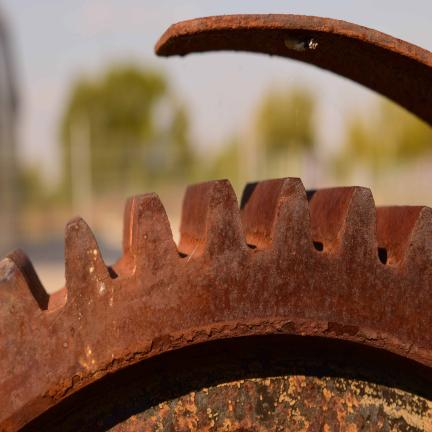karat: (0, 177, 432, 432), (157, 15, 430, 85)
